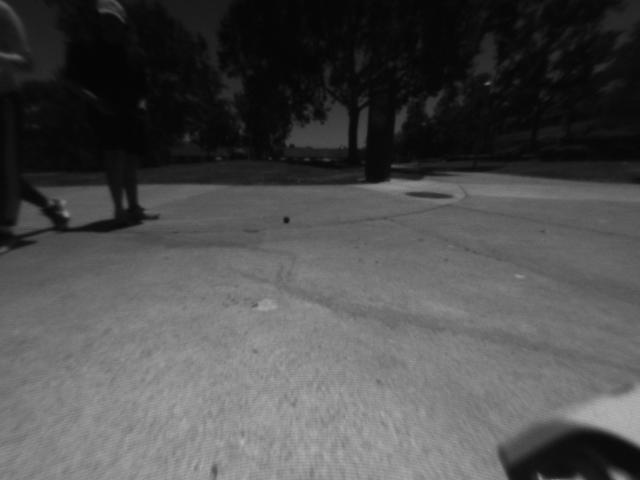dogtoy: (279, 211, 296, 227)
